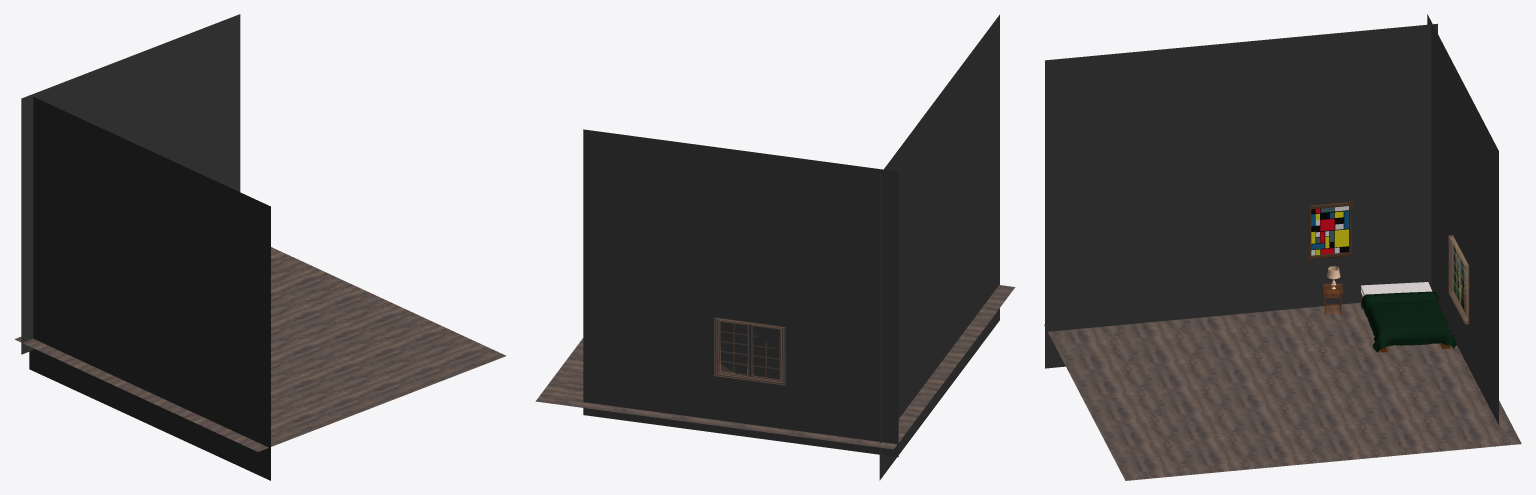
File: salleBoussole.glb
The picture shows the model from 3 angles, left to right: view 1: azimuth 30°, elevation 25°; view 2: azimuth 150°, elevation 25°; view 3: azimuth 270°, elevation 25°; orthographic projection. The views are drawn at different scales.
Visible parts, largest first — view 1: Cube, Cube.003, Cube.004; view 2: Cube.004, Cube, Cube.003, 16696_20_Pane_Casement_Window-Pine_V1; view 3: Cube, Cube.003, Cube.004, Plane, Pintura_Plane, 16696_20_Pane_Casement_Window-Pine_V1, Empty.001, Cube.001.
Part boxes in pixels (x1=…): Cube: x1=29, y1=95, x2=270, y2=480; Cube.003: x1=14, y1=247, x2=506, y2=451; Cube.004: x1=21, y1=14, x2=240, y2=354; Cube.004: x1=583, y1=129, x2=898, y2=457; Cube: x1=879, y1=14, x2=999, y2=480; Cube.003: x1=535, y1=285, x2=1015, y2=449; 16696_20_Pane_Casement_Window-Pine_V1: x1=714, y1=318, x2=785, y2=384; Cube: x1=1045, y1=23, x2=1437, y2=368; Cube.003: x1=1044, y1=302, x2=1521, y2=480; Cube.004: x1=1427, y1=14, x2=1498, y2=425; Plane: x1=1361, y1=291, x2=1456, y2=352; Pintura_Plane: x1=1307, y1=201, x2=1353, y2=261; 16696_20_Pane_Casement_Window-Pine_V1: x1=1448, y1=235, x2=1468, y2=324; Empty.001: x1=1453, y1=240, x2=1467, y2=317; Cube.001: x1=1361, y1=282, x2=1432, y2=296.
Bounding box in the file's own units: 5.02 × 3.77 × 5.25.
18 materials, 3 textured.
